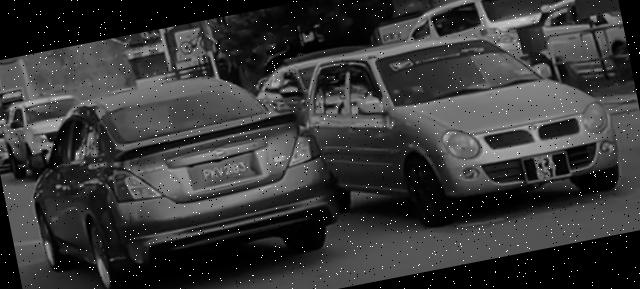License_Plate: (192, 156, 259, 187), (522, 151, 571, 184)
car: (258, 3, 627, 256), (15, 53, 349, 289)
